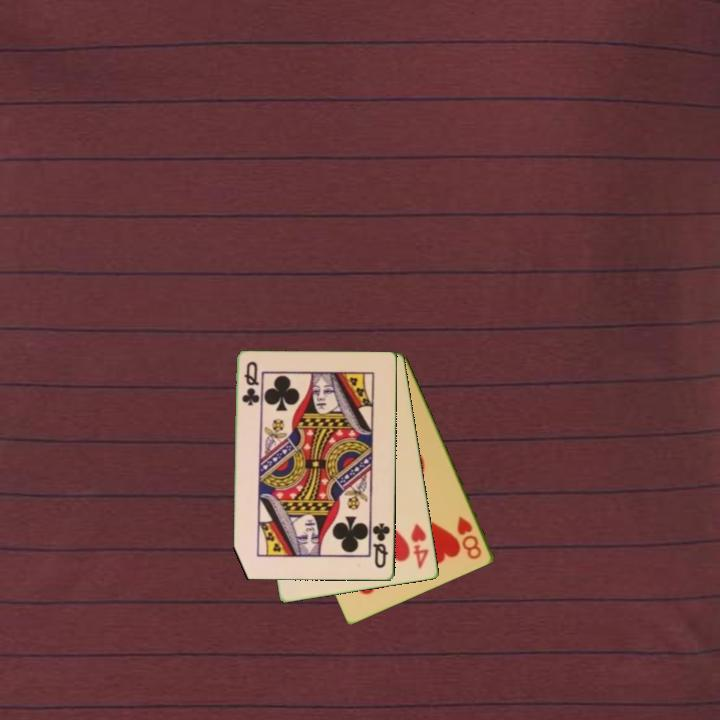4h: (408, 520, 432, 572)
8h: (454, 512, 485, 563)
Qc: (369, 520, 393, 571), (239, 358, 261, 409)
